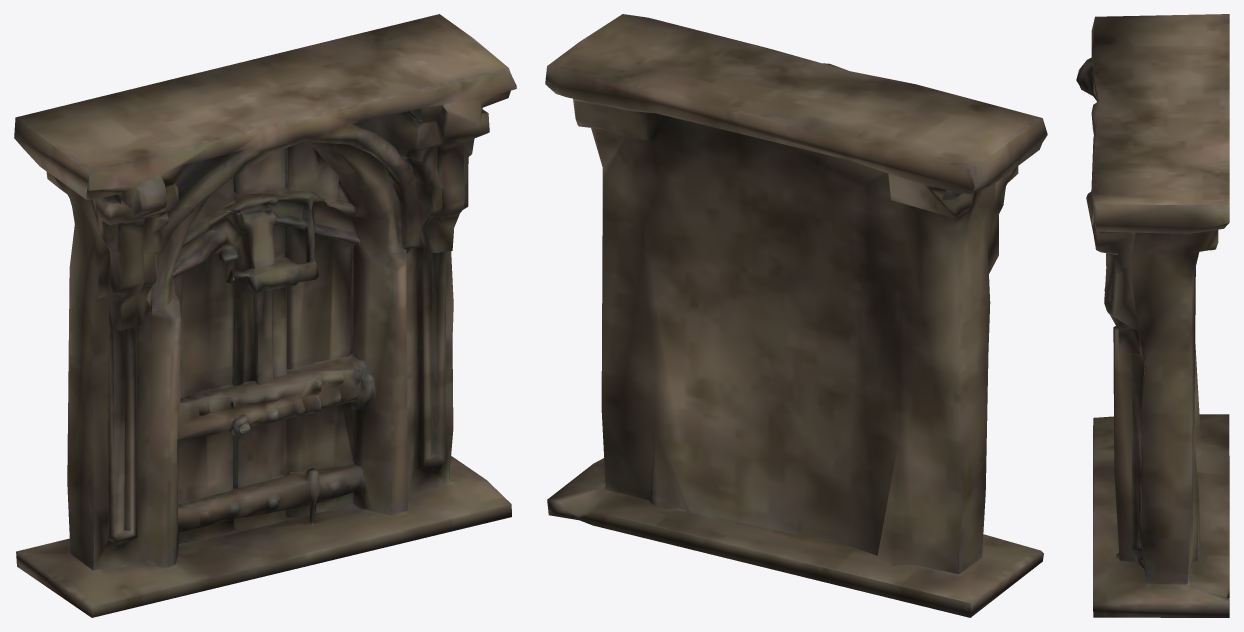
File: ancient-wood-castle-door-v002.glb
The picture shows the model from 3 angles, left to right: view 1: azimuth 30°, elevation 25°; view 2: azimuth 150°, elevation 25°; view 3: azimuth 270°, elevation 25°; orthographic projection. The views are drawn at different scales.
Parts seen in each view (by area): view 1: ancient-wood-castle-door; view 2: ancient-wood-castle-door; view 3: ancient-wood-castle-door.
Boxes of the visible parts, box(x1,y1,x2,y2) form: ancient-wood-castle-door: box(14, 14, 516, 617); ancient-wood-castle-door: box(545, 14, 1047, 617); ancient-wood-castle-door: box(1076, 14, 1229, 617).
Bounding box in the file's own units: 2.85 × 2.85 × 0.9563.
1 material, 1 textured.
